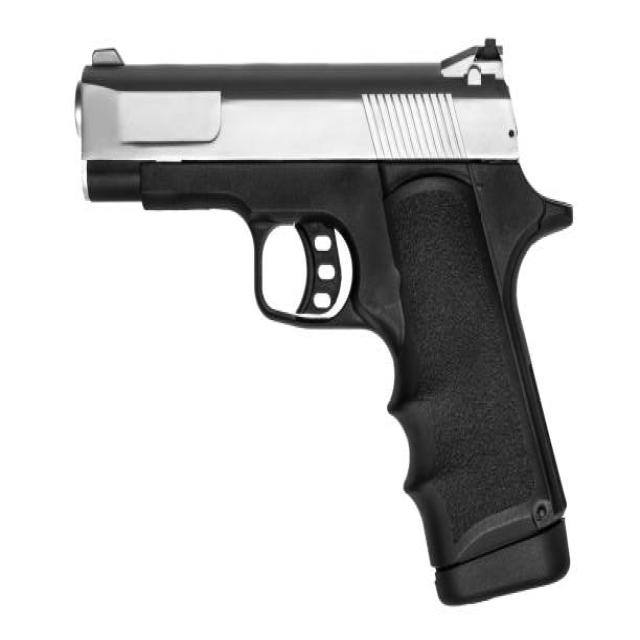pistol: (70, 33, 581, 612)
